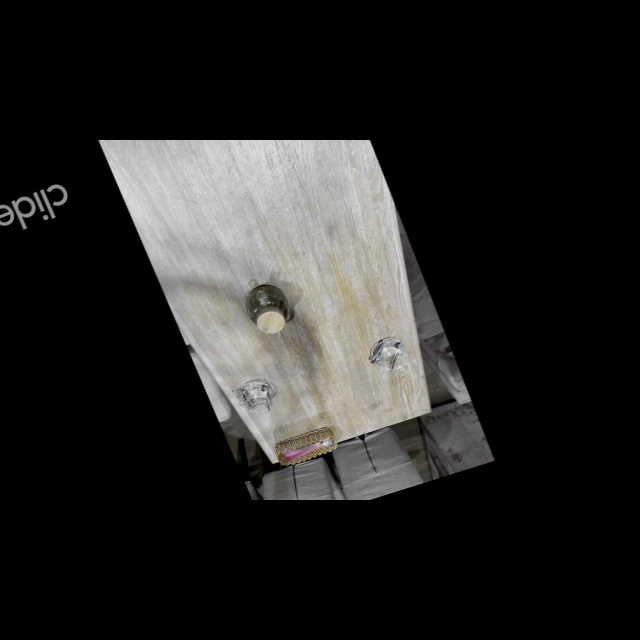графин с чаем: (239, 280, 299, 339)
